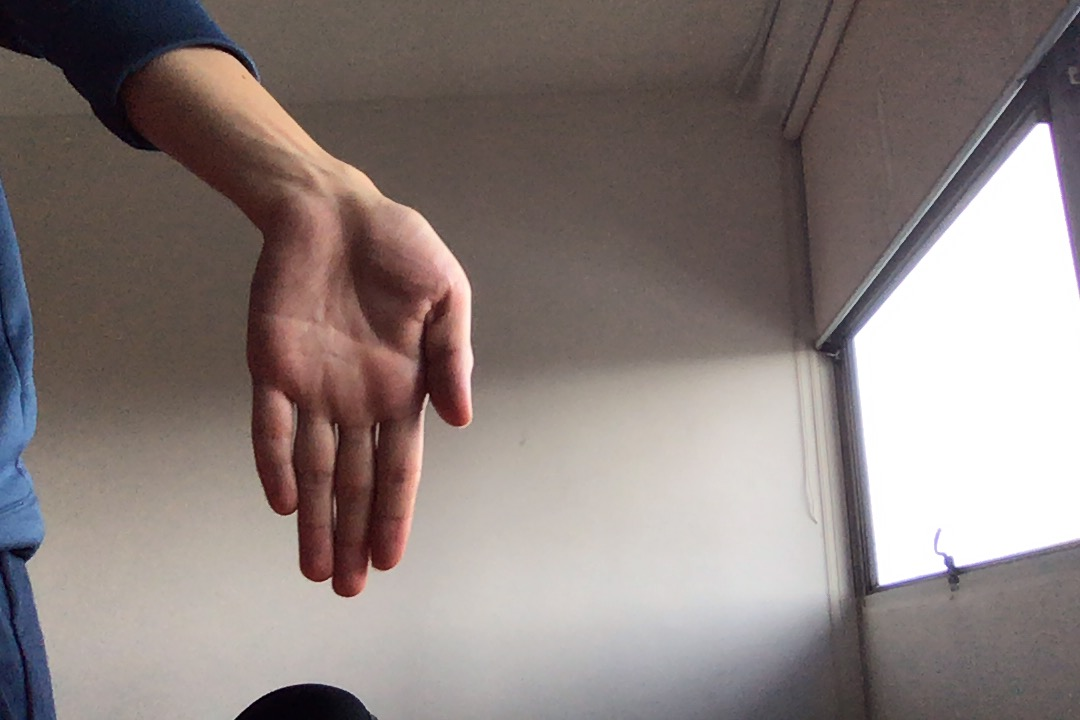palmhand: (236, 199, 478, 603)
